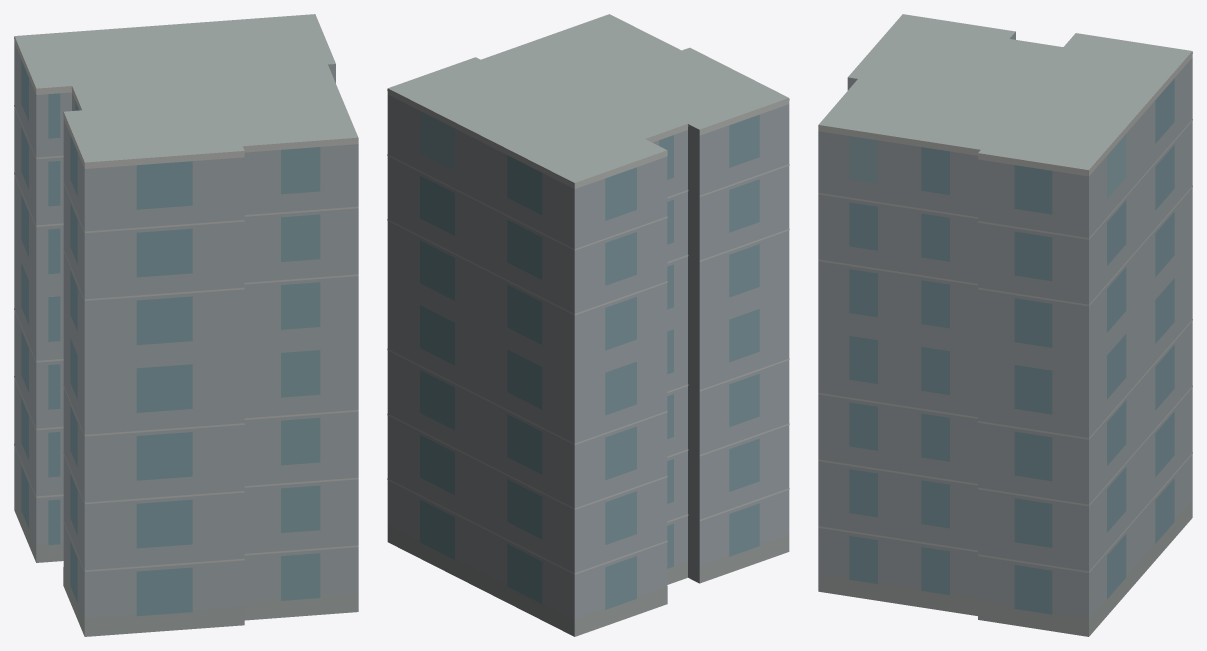
File: survey-upis-32576030.glb
The picture shows the model from 3 angles, left to right: view 1: azimuth 30°, elevation 25°; view 2: azimuth 150°, elevation 25°; view 3: azimuth 270°, elevation 25°; orthographic projection. The views are drawn at different scales.
Parts seen in each view (by area): view 1: survey-upis-32576030.tmp; view 2: survey-upis-32576030.tmp; view 3: survey-upis-32576030.tmp.
Boxes of the visible parts, x1=… form: survey-upis-32576030.tmp: x1=14, y1=14, x2=358, y2=636; survey-upis-32576030.tmp: x1=387, y1=14, x2=789, y2=636; survey-upis-32576030.tmp: x1=818, y1=14, x2=1192, y2=636.
Bounding box in the file's own units: 12.94 × 18 × 13.11.
